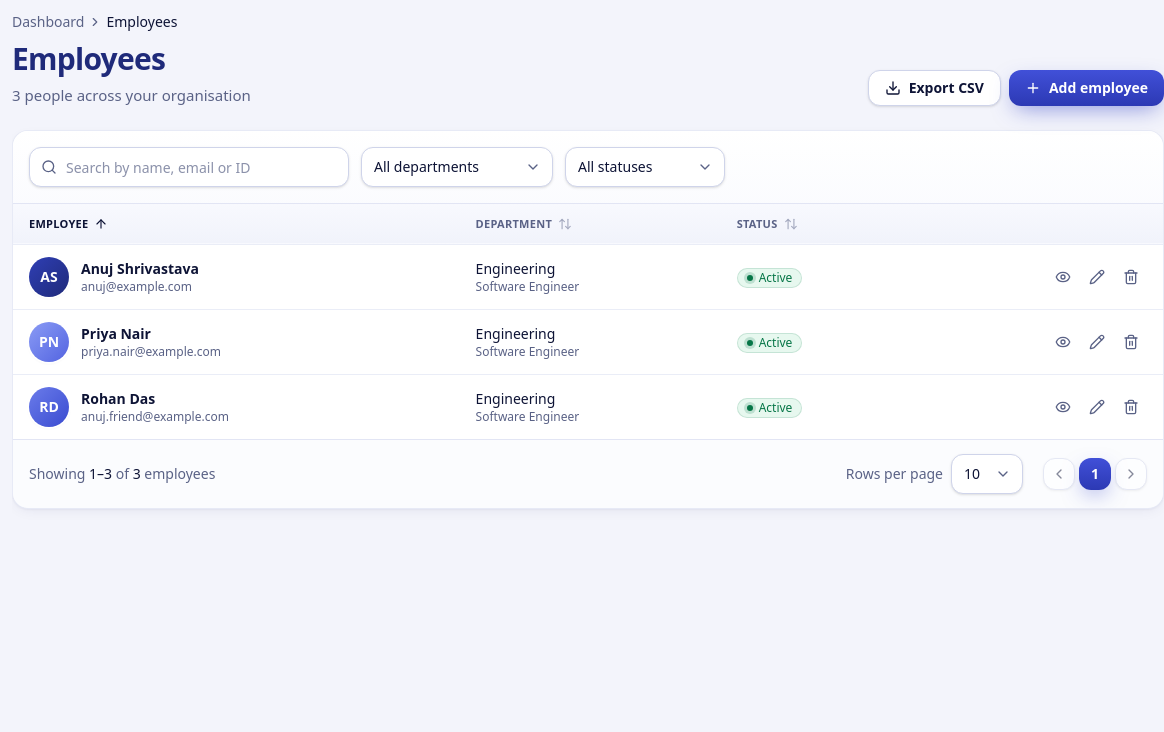
<EmployeeDirectory> › searches by name or email after a debounce and resets to page one
Step 1. Type "anuj" into the search field named "Search employees" → (189, 167), box [29,147,349,187]
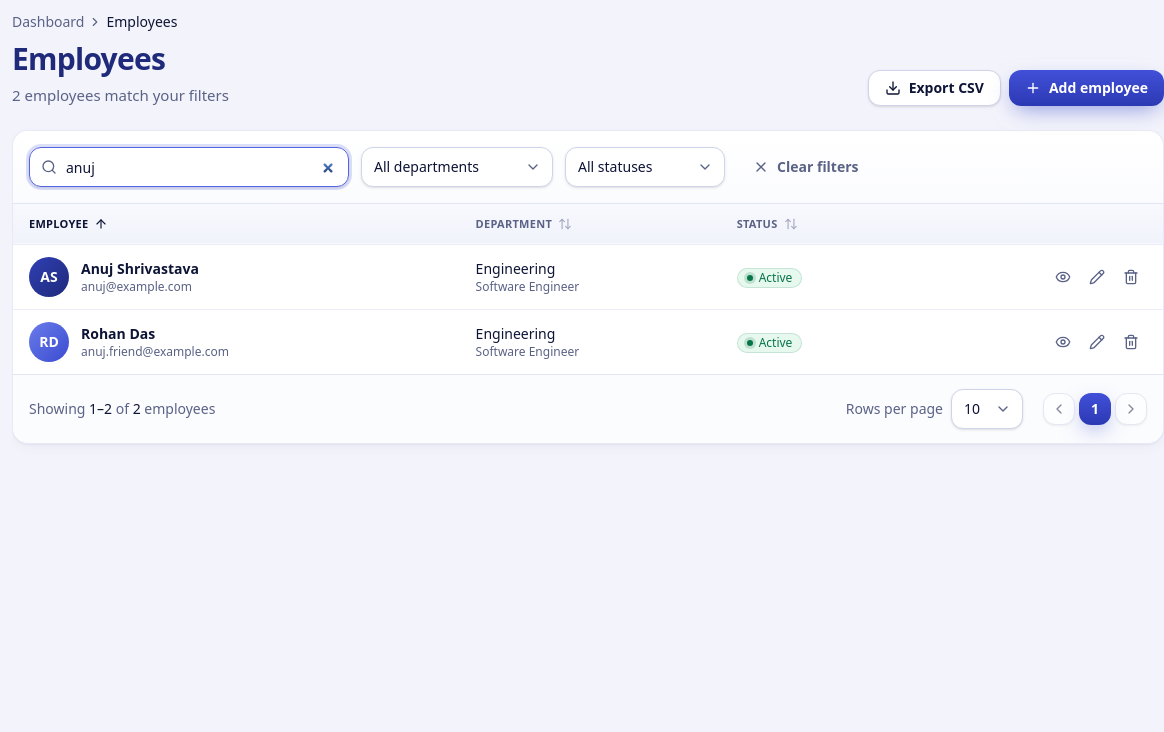
Check: the number of rows with test id "employee-row" is 2, box [13,244,1163,309]; [13,309,1163,374]
Check: the link "Priya Nair" is gone
Check: the text "2 employees match your filters" is shown, box [12,84,229,106]
